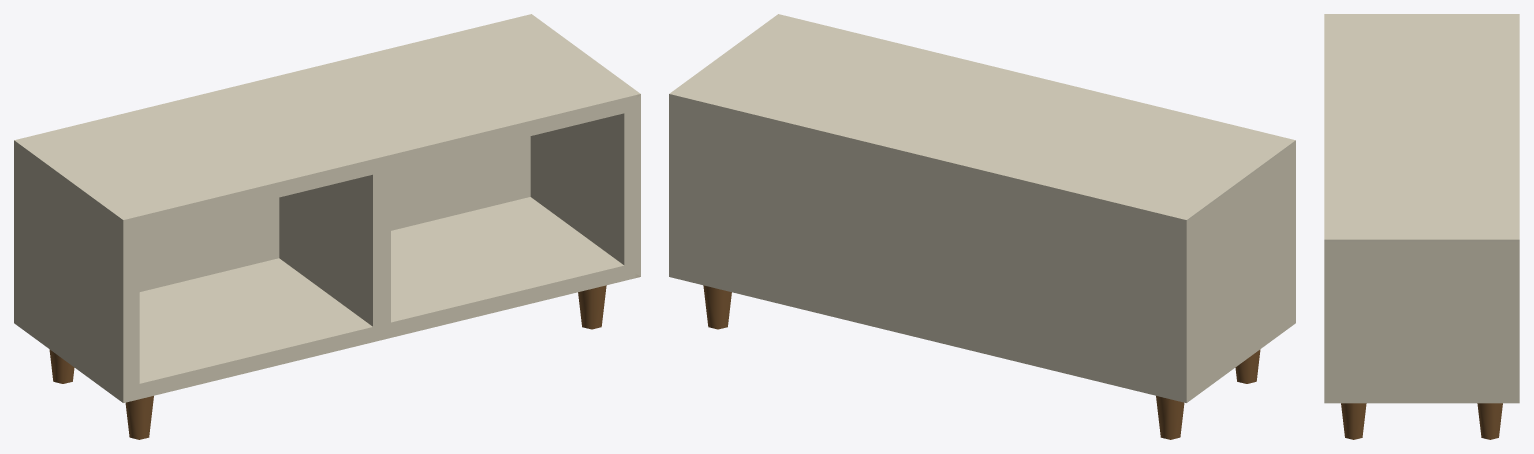
The model's file is 08_furniture_tv shelf.FBX.
3 renders of one model, left to right at view 1: azimuth 30°, elevation 25°; view 2: azimuth 150°, elevation 25°; view 3: azimuth 270°, elevation 25°, orthographic. The views are drawn at different scales.
Visible parts, largest first — view 1: furniture_tv shelf; view 2: furniture_tv shelf; view 3: furniture_tv shelf.
Boxes of the visible parts, x1,y1,x2,y2 form: furniture_tv shelf: (14,14,640,439); furniture_tv shelf: (669,14,1295,439); furniture_tv shelf: (1324,14,1519,439).
Bounding box in the file's own units: 97.21 × 42.18 × 35.52.
